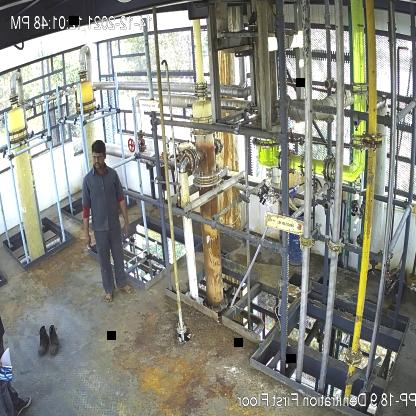no_shoes: (118, 284, 135, 294), (105, 292, 115, 305)
shoes: (46, 324, 60, 356), (36, 326, 48, 355)
